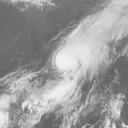cyclone: (53, 44, 88, 78)
